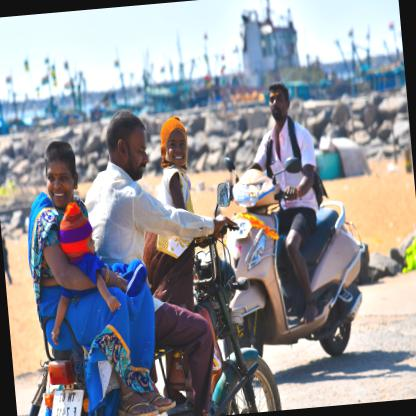motorcycle: (13, 102, 281, 415), (200, 78, 372, 368)
